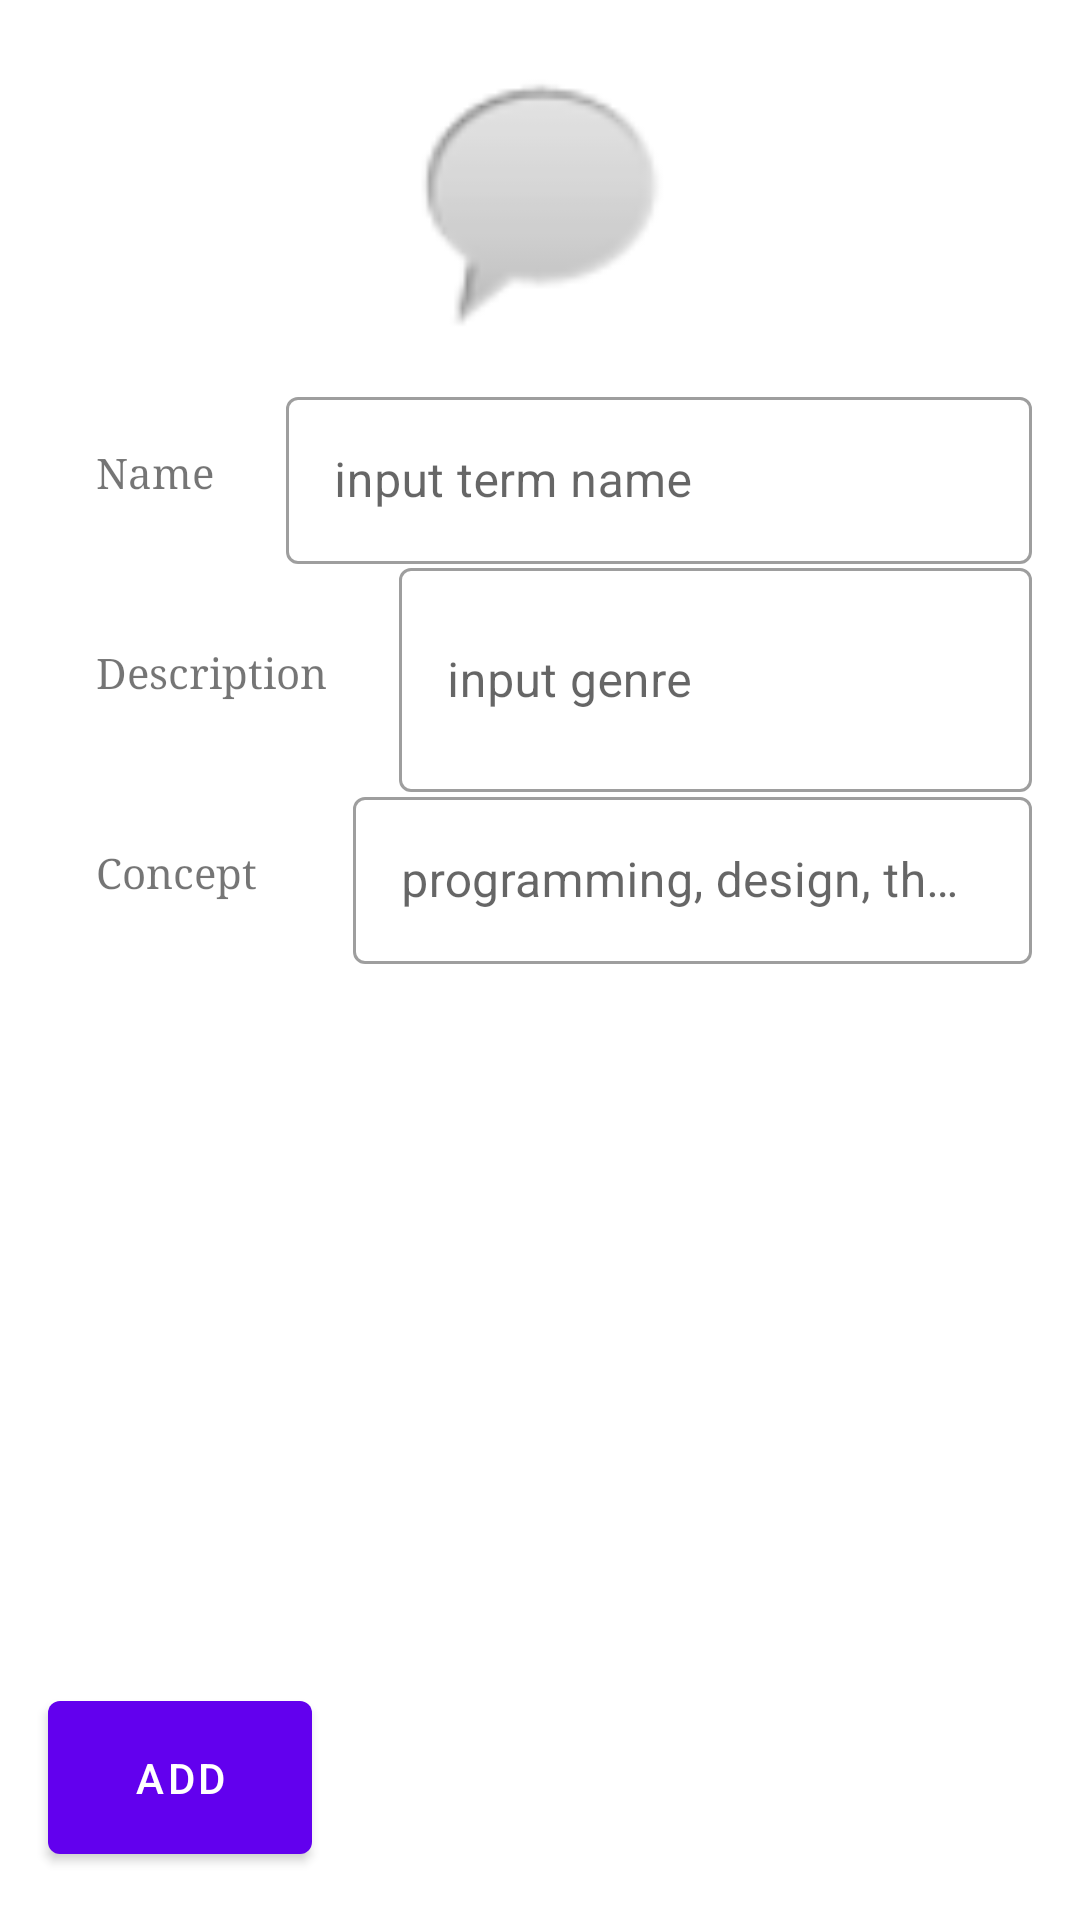

Locate icon controls on the screen. Image size 1080px x 1920px, boxes as (left=x1, top=y1, right=x2, bottom=y2).
sym action chat: (left=426, top=86, right=653, bottom=321)
